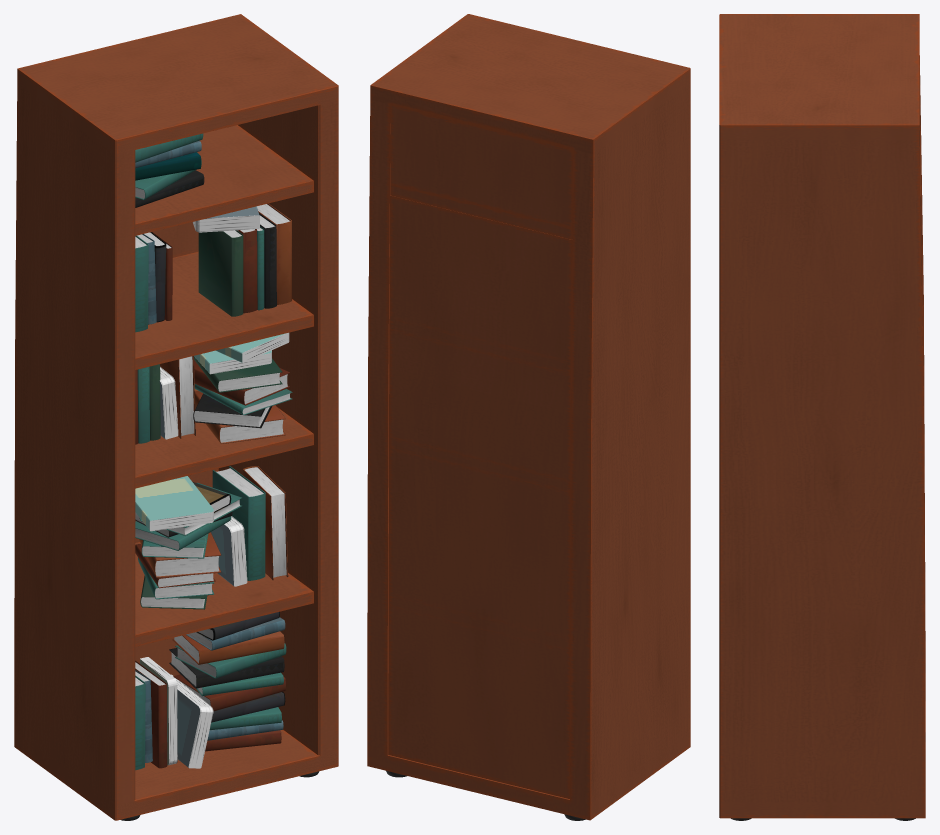
File: coffee_color_cartoon_closet_with_books.glb
3 renders of one model, left to right at view 1: azimuth 30°, elevation 25°; view 2: azimuth 150°, elevation 25°; view 3: azimuth 270°, elevation 25°, orthographic. The views are drawn at different scales.
Parts seen in each view (by area): view 1: Closet_0; view 2: Closet_0; view 3: Closet_0.
Part boxes in pixels (x1=…): Closet_0: x1=14, y1=14, x2=338, y2=820; Closet_0: x1=367, y1=14, x2=690, y2=820; Closet_0: x1=719, y1=14, x2=925, y2=820.
Bounding box in the file's own units: 0.5716 × 1.68 × 0.4486.
2 materials, 2 textured.
